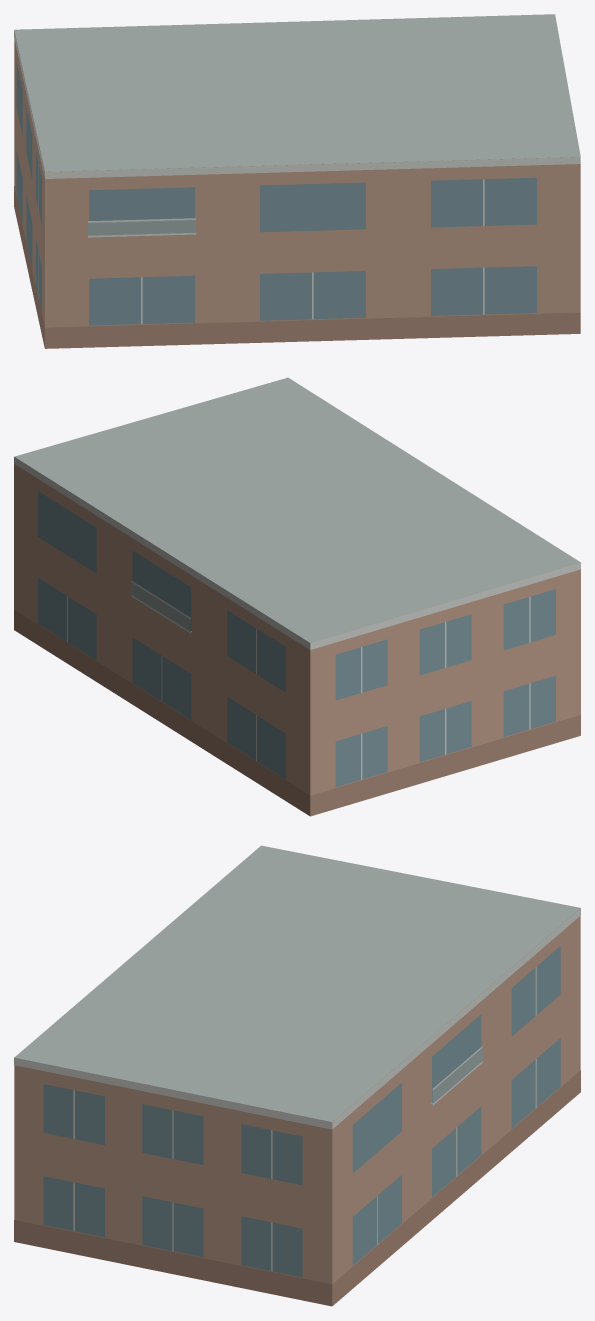
The model's file is survey-upis-32888315.glb.
3 renders of one model, top to bottom at view 1: azimuth 30°, elevation 25°; view 2: azimuth 150°, elevation 25°; view 3: azimuth 270°, elevation 25°, orthographic. The views are drawn at different scales.
Parts seen in each view (by area): view 1: survey-upis-32888315.tmp; view 2: survey-upis-32888315.tmp; view 3: survey-upis-32888315.tmp.
Part boxes in pixels (x1=…): survey-upis-32888315.tmp: x1=14, y1=14, x2=580, y2=348; survey-upis-32888315.tmp: x1=14, y1=377, x2=580, y2=816; survey-upis-32888315.tmp: x1=14, y1=845, x2=580, y2=1306.
Bounding box in the file's own units: 19.33 × 6 × 16.73.
